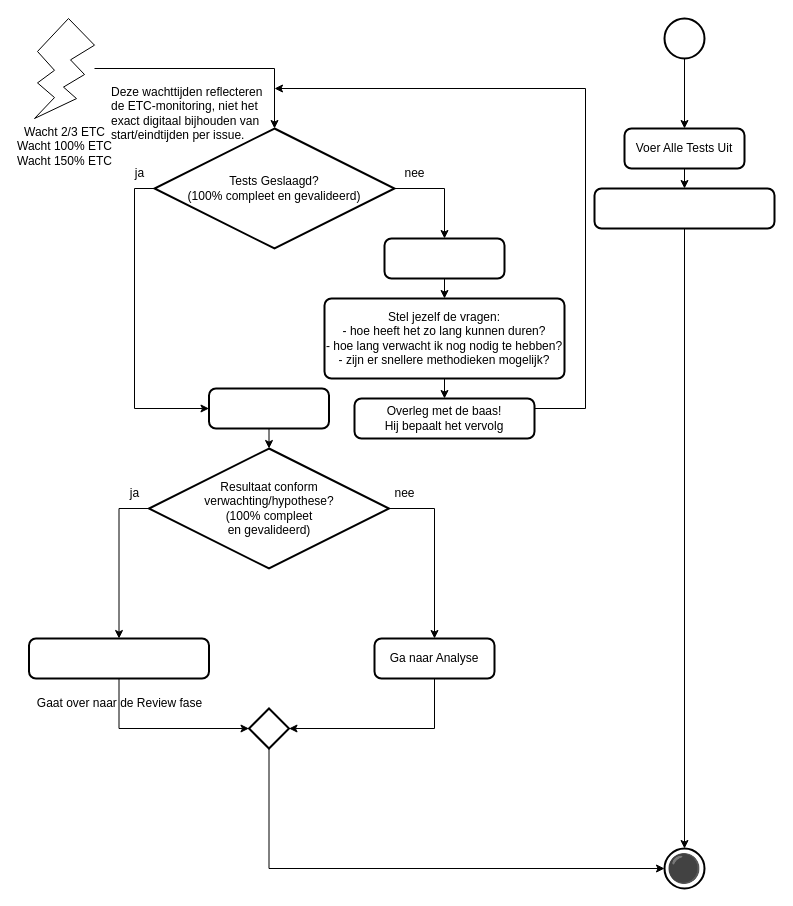
The diagram is 793 pixels wide and 906 high, and some of its shapes have lost their labels. The shapes that lost their labels are listed below. From the top down, each one's centre as x and y in pixels, then its label:
point (684, 208): Controleer Resultaten
point (444, 258): Herzie planning
point (269, 408): Overleg met de baas!
point (119, 658): Vraag een review aan bij de baas
